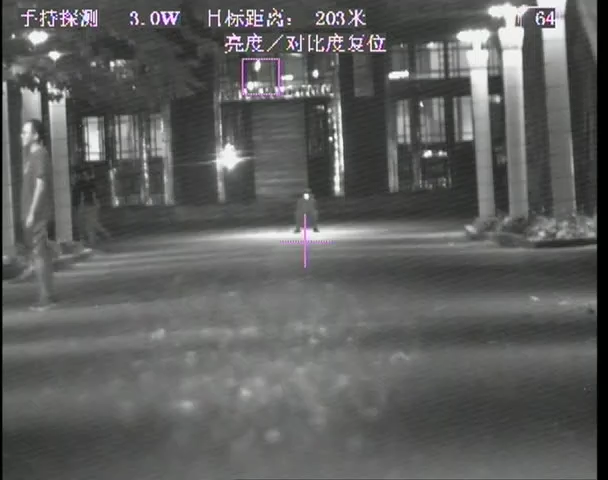my: (302, 192, 312, 202)
